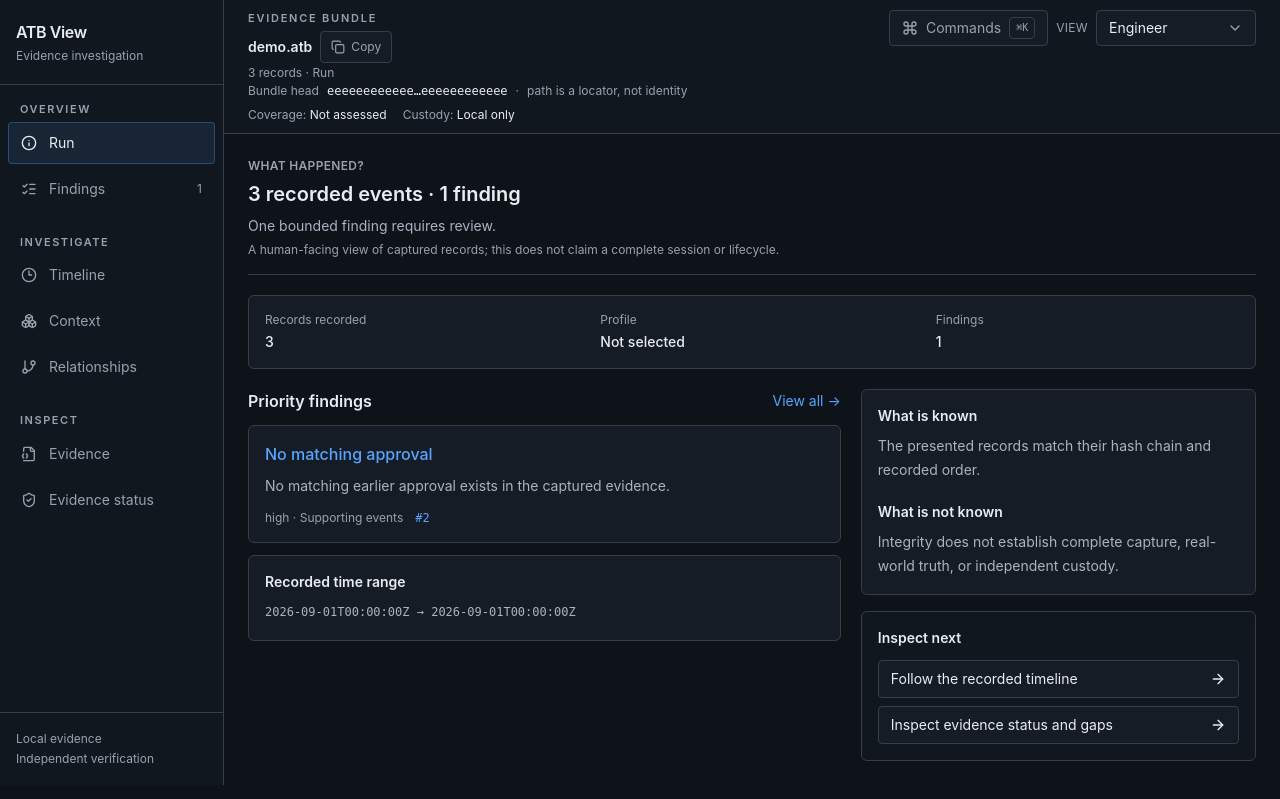
Test: ATB View investigation model › opens Evidence status from navigation
The image size is (1280, 799).
What coordinates should you click on to do the following:
click the button "Evidence status"
I would click on:
 (112, 500)
Its box is [8,478,215,520].
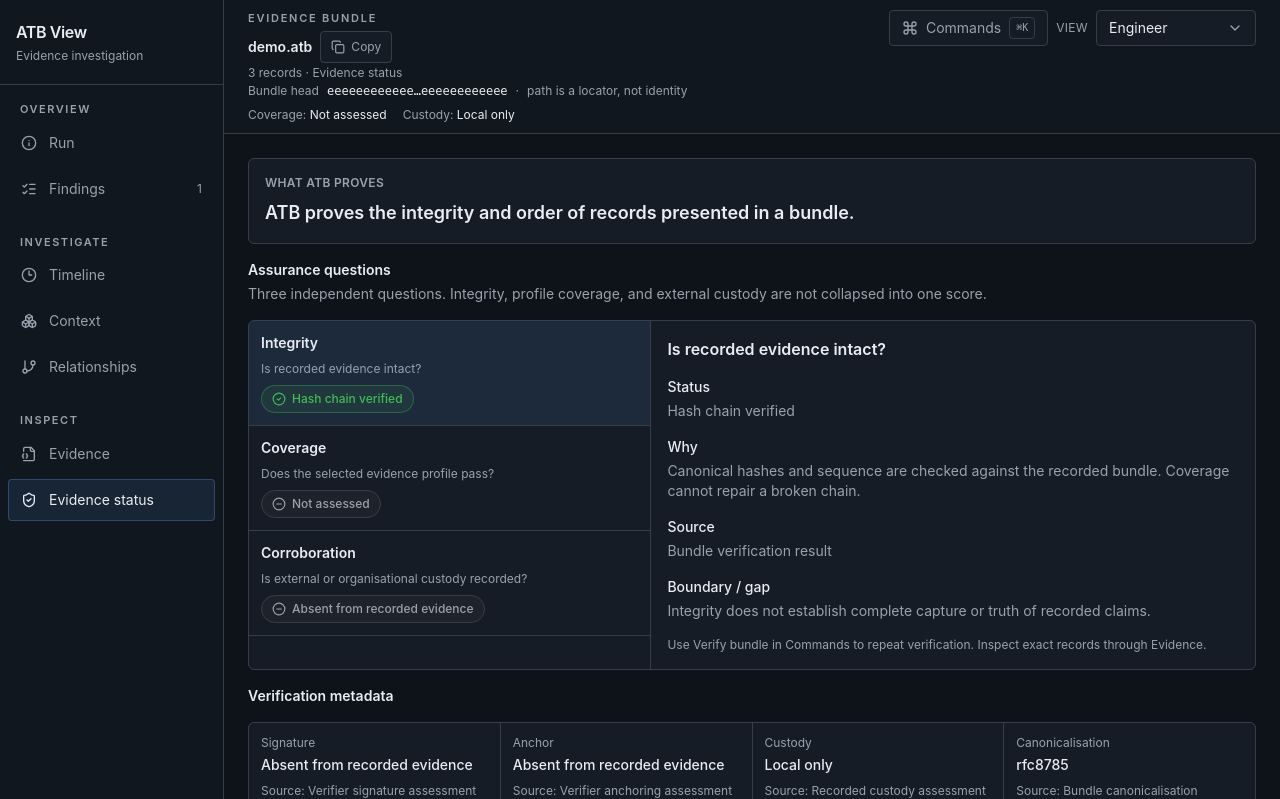
Result: the text "ATB proves the integrity and order" is shown at [265,202,854,222]
Result: the text "Integrity" is shown at [261,334,318,350]
Result: the text "Coverage" is shown at [261,438,326,456]
